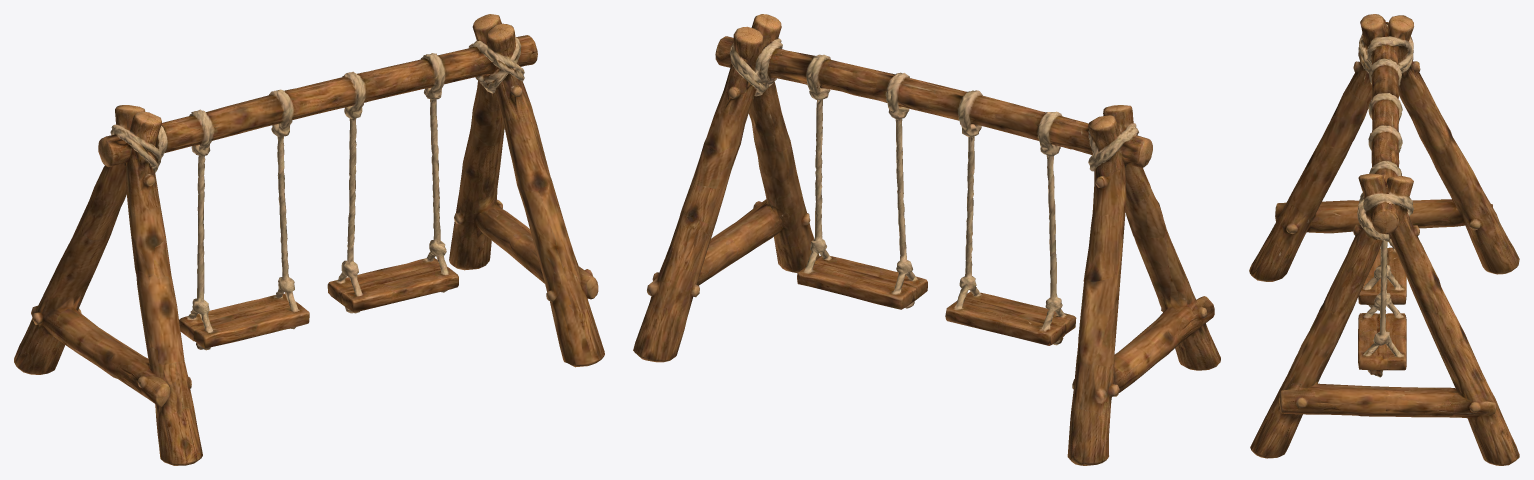
The model's file is salincak.glb.
3 renders of one model, left to right at view 1: azimuth 30°, elevation 25°; view 2: azimuth 150°, elevation 25°; view 3: azimuth 270°, elevation 25°, orthographic. The views are drawn at different scales.
Bounding box in the file's own units: 1.9 × 1.15 × 1.04.
1 material, 1 textured.
